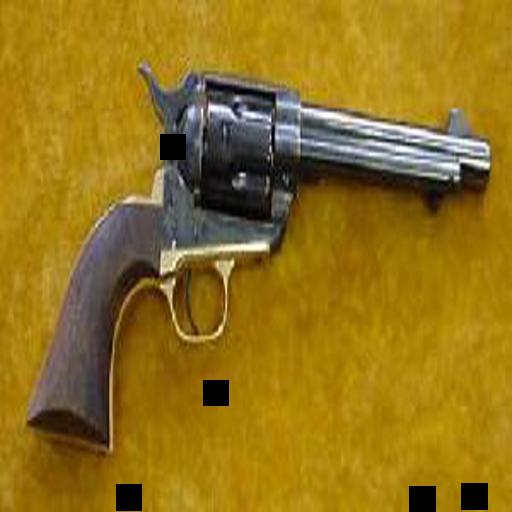Handgun: (21, 53, 495, 446)
